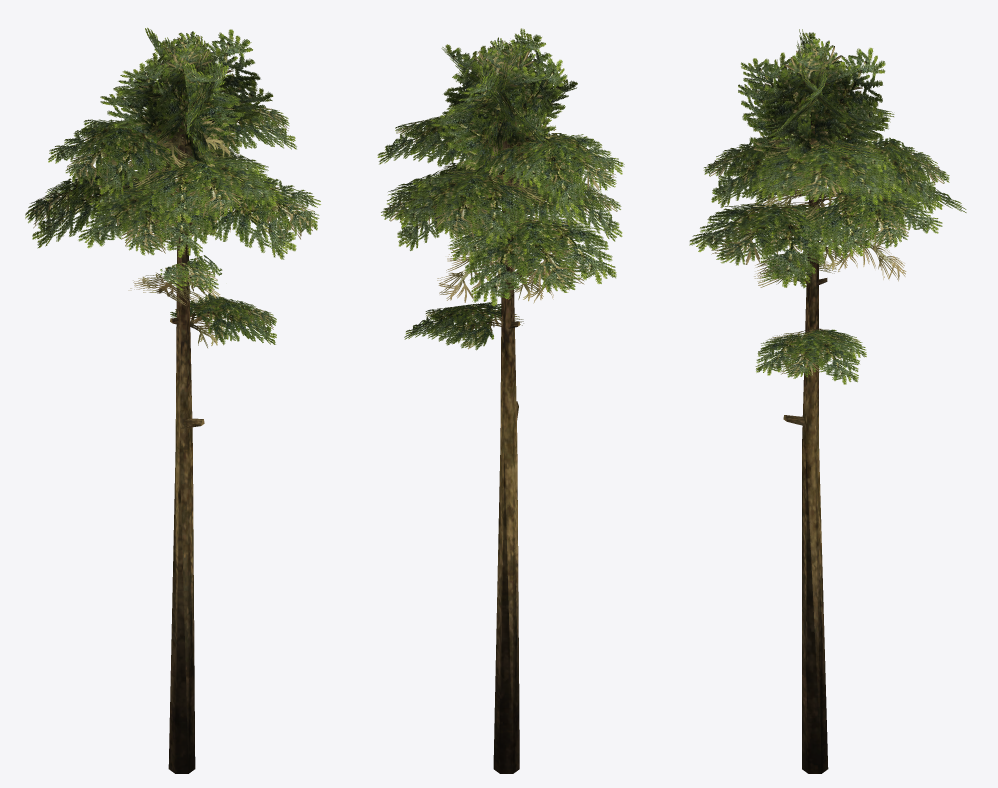
Rendered from flora_tree_cedar_atlas_2_young_v2.glb.
3 views of the same model, side by side, from view 1: azimuth 30°, elevation 25°; view 2: azimuth 150°, elevation 25°; view 3: azimuth 270°, elevation 25° (orthographic).
Visible parts, largest first — view 1: flora_tree_cedar_atlas_2_young_v2_part0, flora_tree_cedar_atlas_2_young_v2_part1; view 2: flora_tree_cedar_atlas_2_young_v2_part0, flora_tree_cedar_atlas_2_young_v2_part1; view 3: flora_tree_cedar_atlas_2_young_v2_part0, flora_tree_cedar_atlas_2_young_v2_part1.
Part boxes in pixels (x1=…): flora_tree_cedar_atlas_2_young_v2_part0: x1=25, y1=27, x2=320, y2=773; flora_tree_cedar_atlas_2_young_v2_part1: x1=128, y1=219, x2=220, y2=305; flora_tree_cedar_atlas_2_young_v2_part0: x1=377, y1=28, x2=624, y2=773; flora_tree_cedar_atlas_2_young_v2_part1: x1=437, y1=241, x2=562, y2=303; flora_tree_cedar_atlas_2_young_v2_part0: x1=689, y1=29, x2=966, y2=773; flora_tree_cedar_atlas_2_young_v2_part1: x1=754, y1=234, x2=906, y2=287.
Bounding box in the file's own units: 10.58 × 25.71 × 10.04.
Materials: 2 (2 with a texture image).
